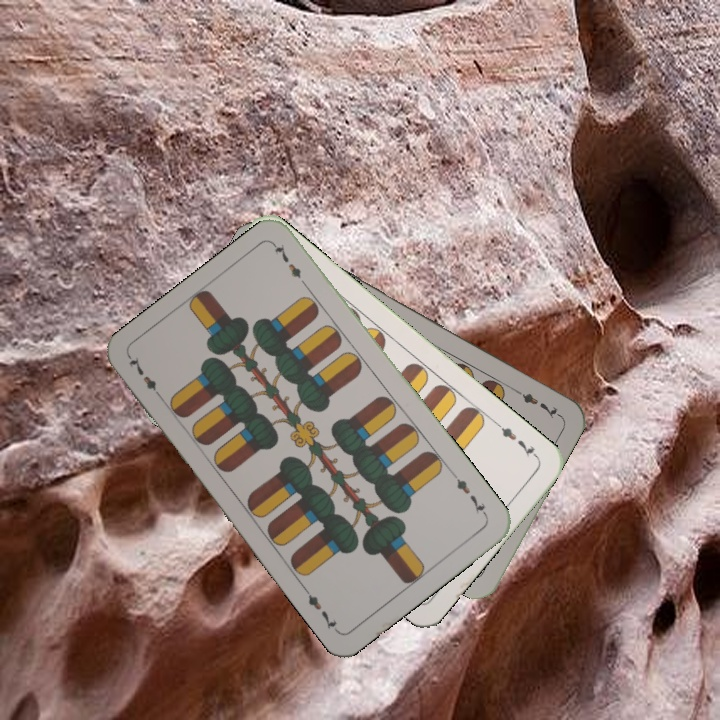E7: (492, 419, 542, 462), (124, 353, 167, 403), (449, 471, 490, 519), (509, 385, 562, 422)
